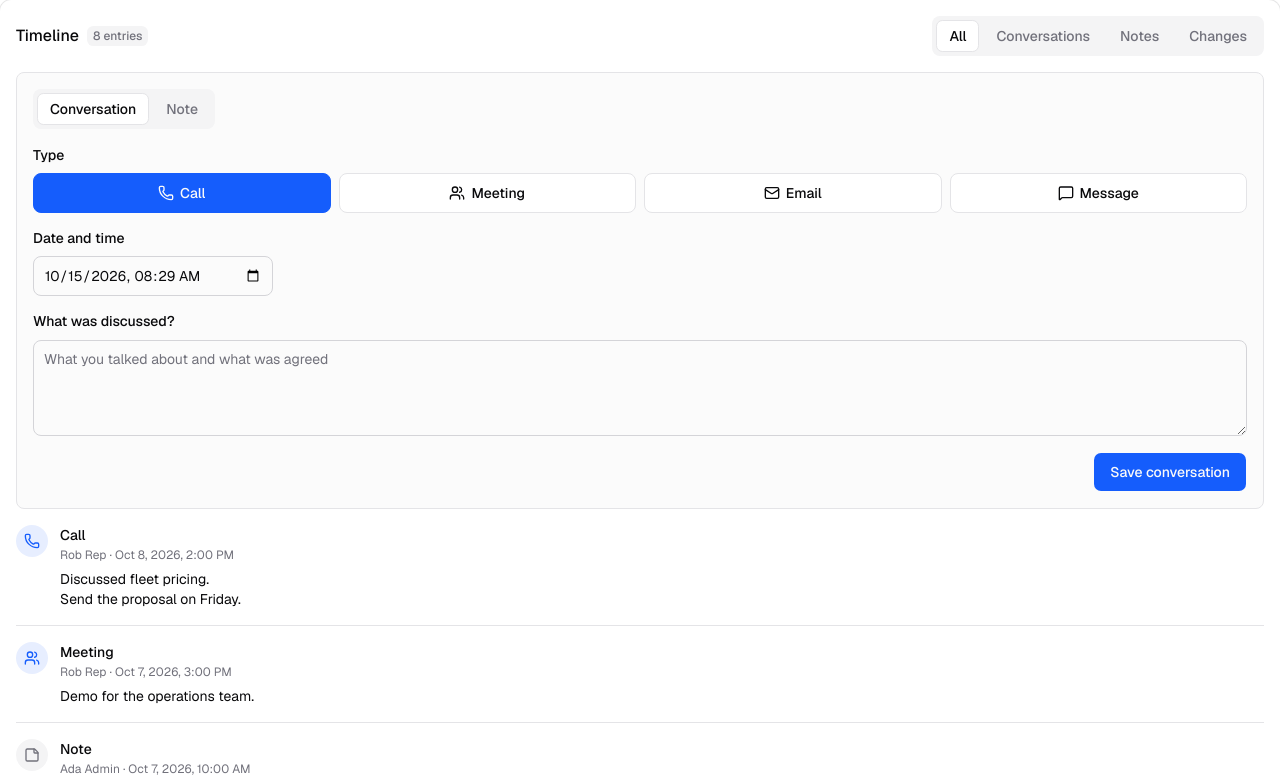
Test: Timeline › names what is missing under a filter tab
The width and height of the screenshot is (1280, 784).
Click the button "Notes" at point(1140, 36), box [1107,20,1172,52]
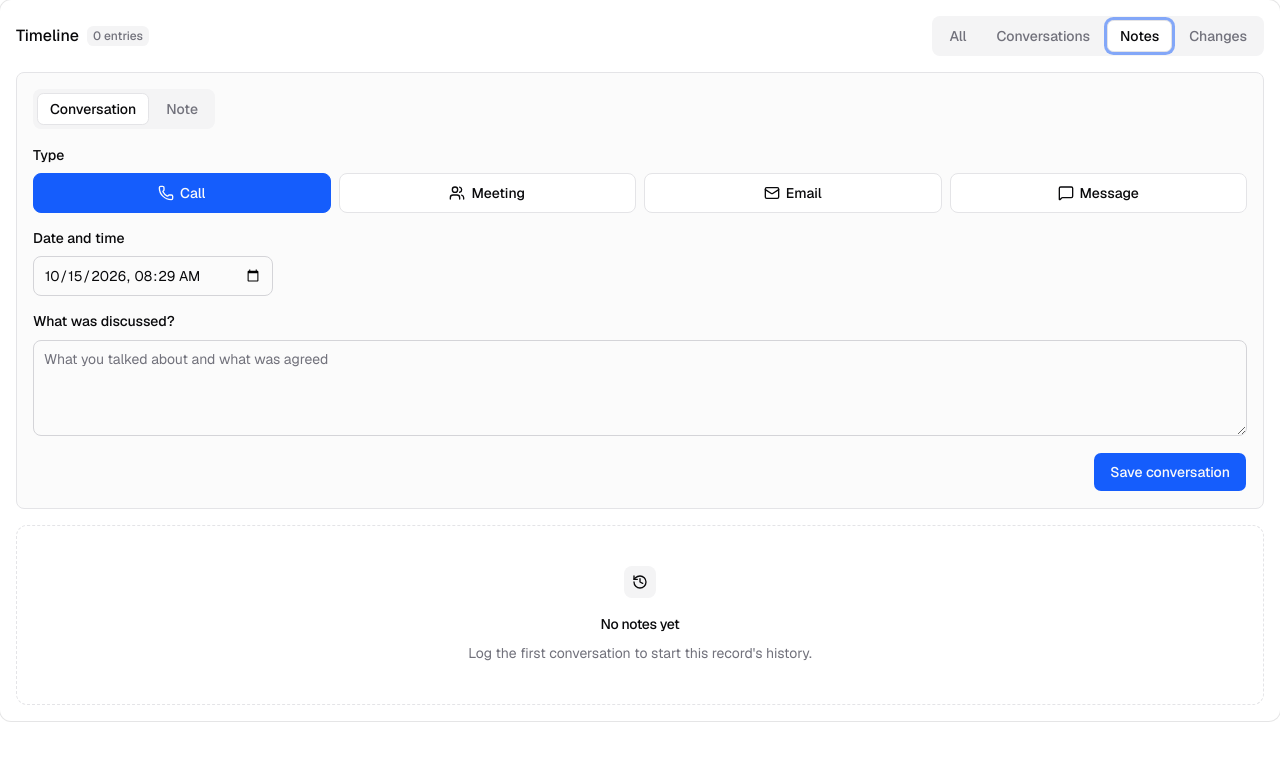
Expected: the text "No notes yet" is shown, [601,614,679,634]
